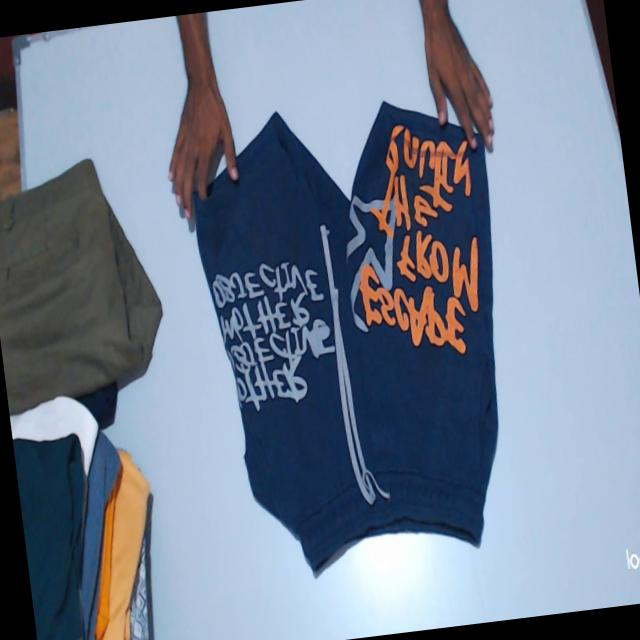new-garment: (195, 100, 497, 572)
